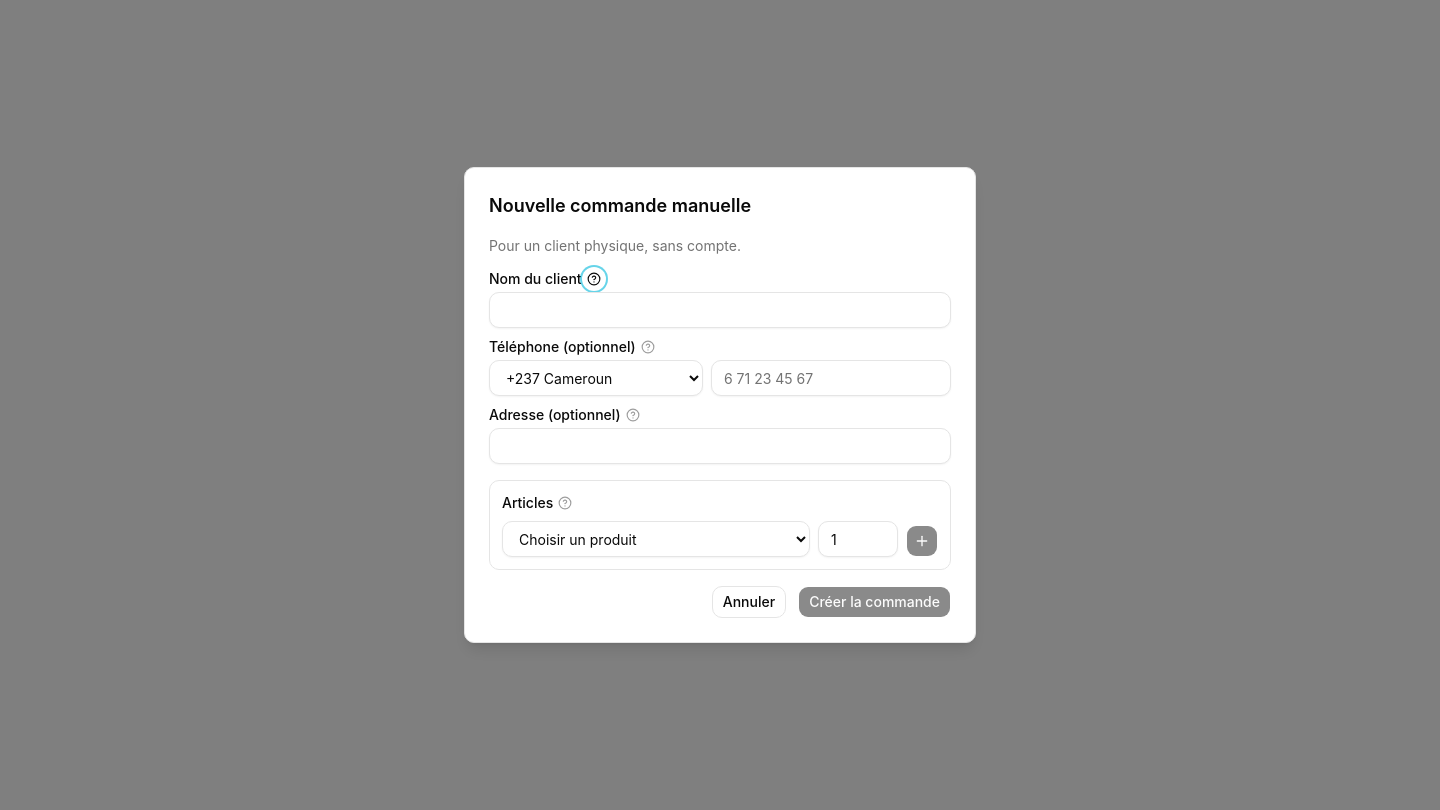
ManualOrderDialog › removes a line before submitting
Type "Client de passage" into the field labelled "Nom du client" at [720, 310], box [489,292,951,328]
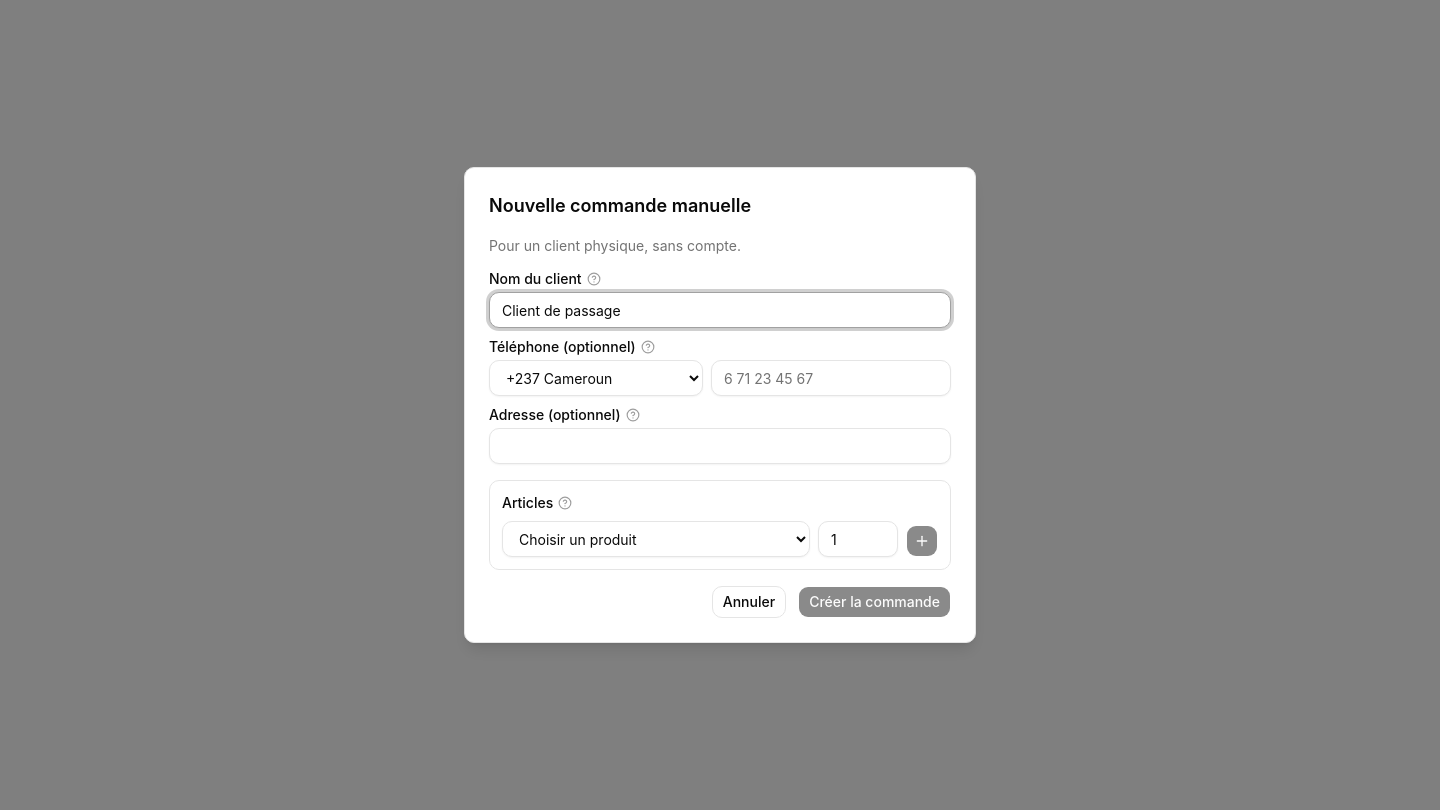
Select "Wax — 5 000 FCFA" in the dropdown named "Produit" at [656, 539], box [502,521,810,557]
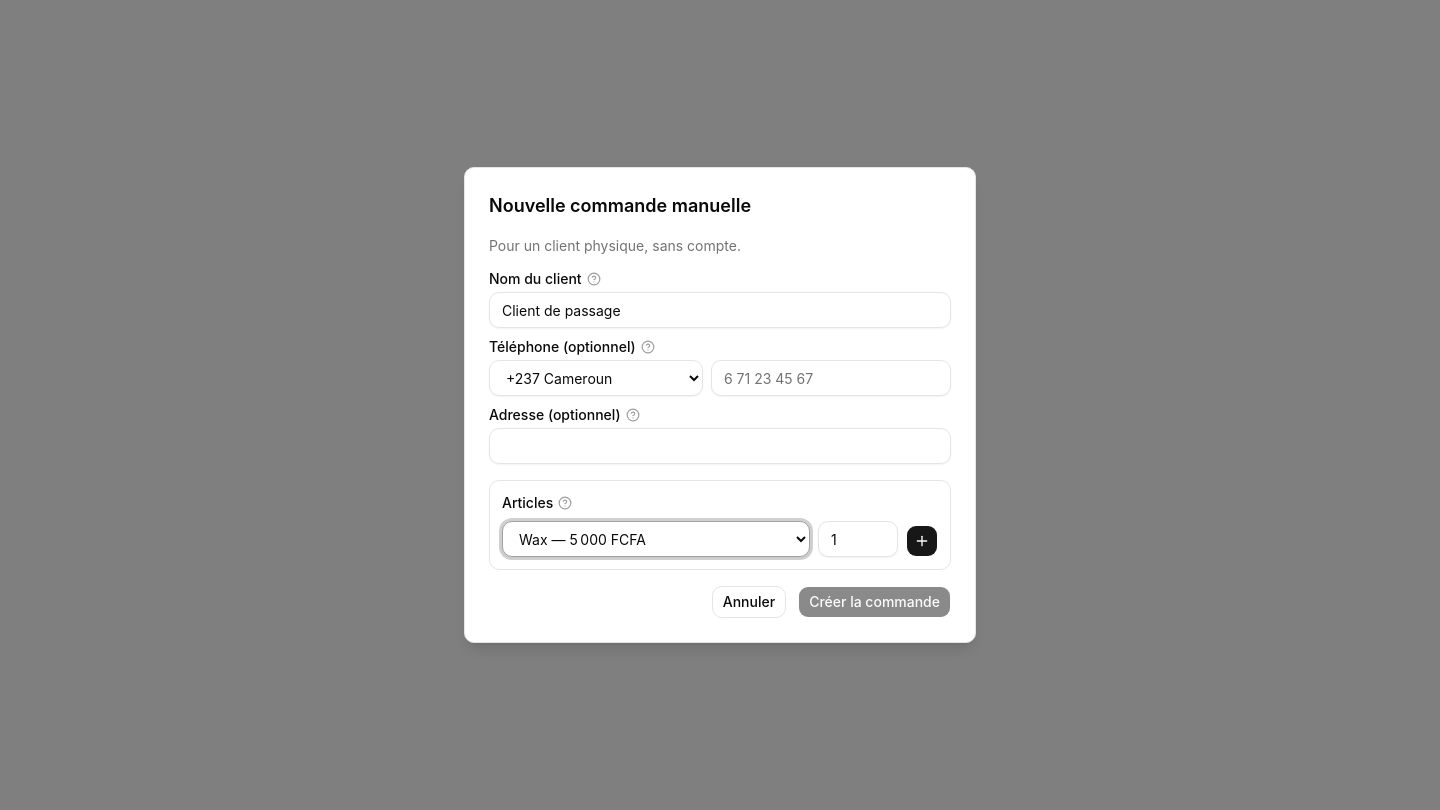
Click the button named "Ajouter l'article" at [922, 541], box [906,525,938,557]
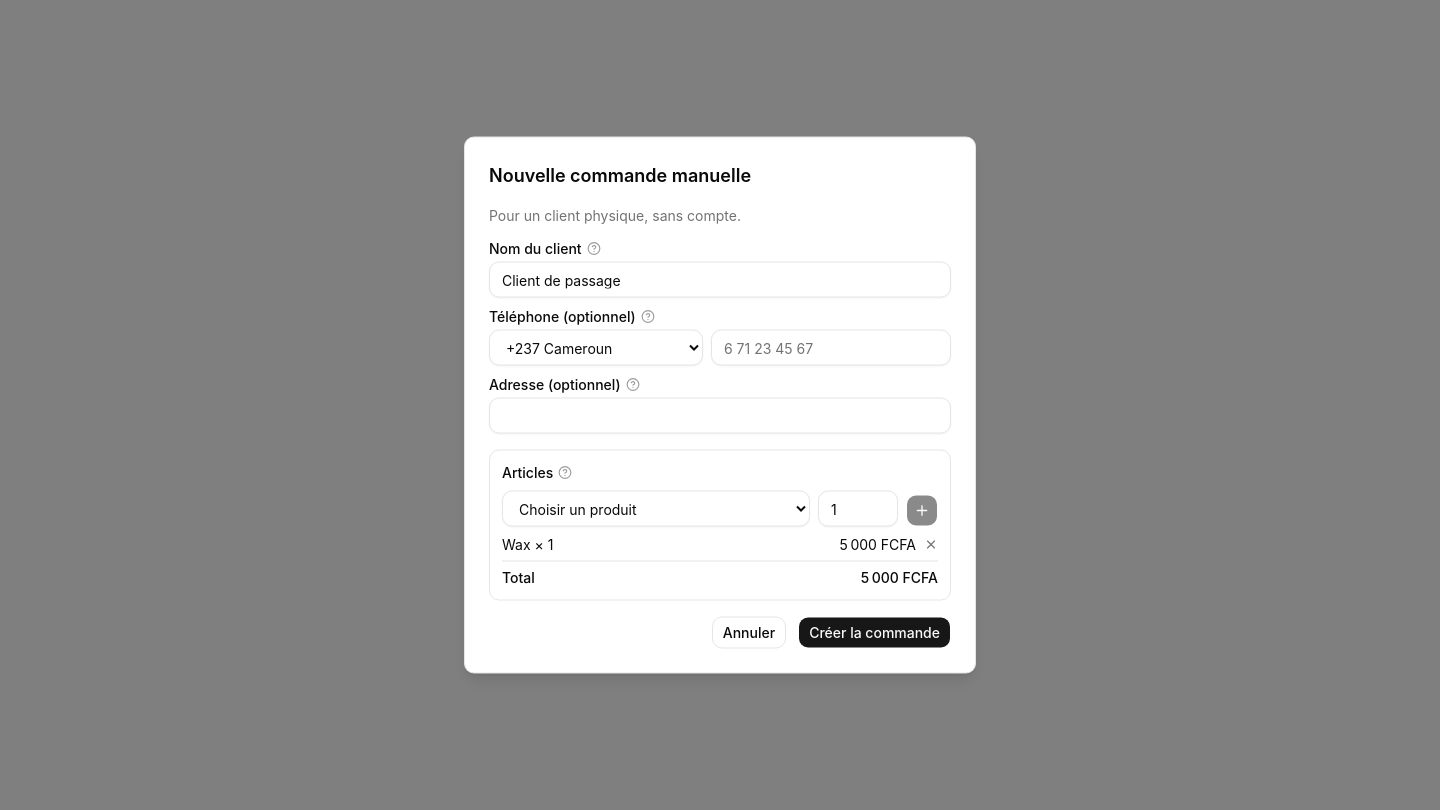
Expected: the text "Wax × 1" is shown, [502,534,553,554]
Click the button named "Retirer Wax" at [931, 544], box [924,538,938,552]
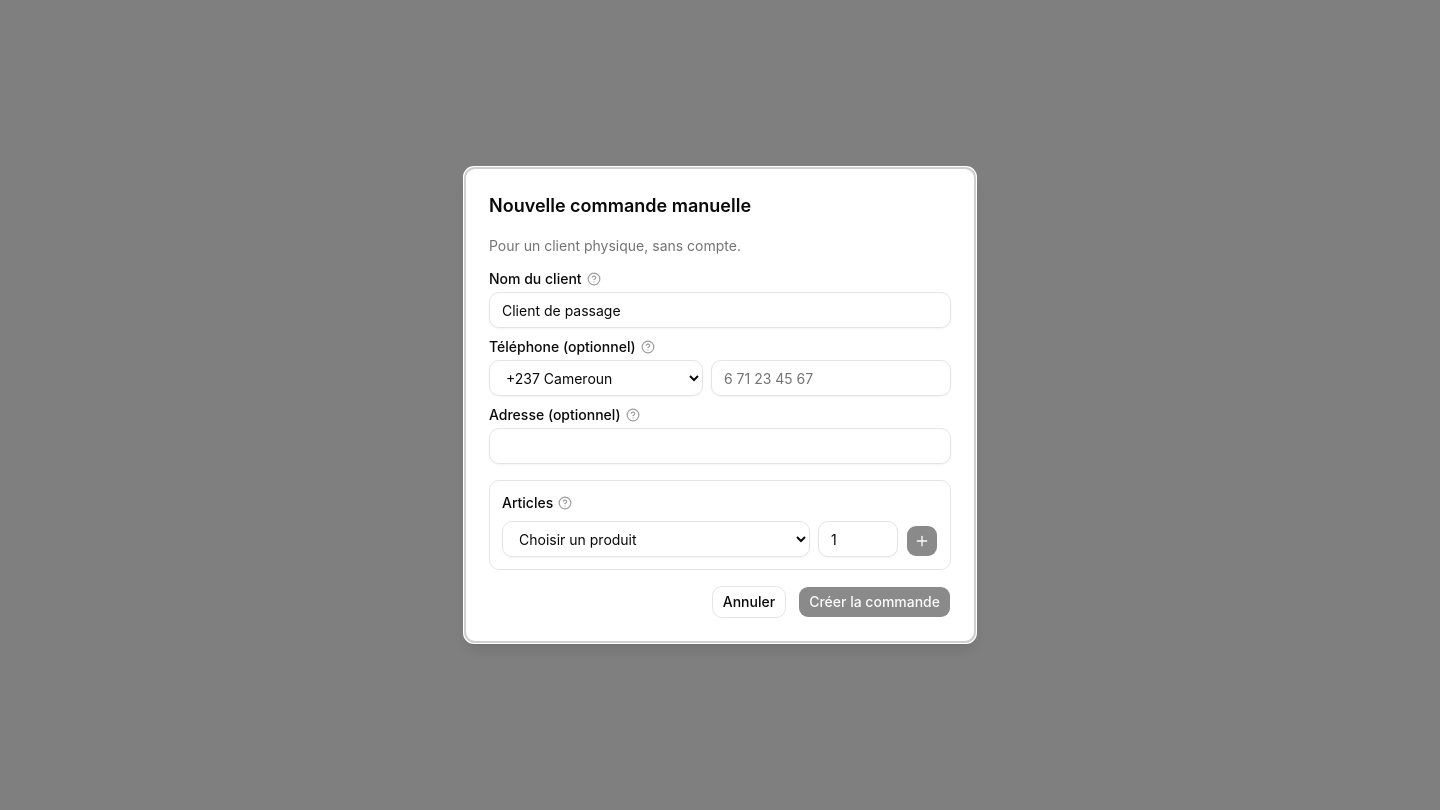
Expected: the text "Wax × 1" is gone
Expected: the button "Créer la commande" is disabled, [798,586,951,618]
